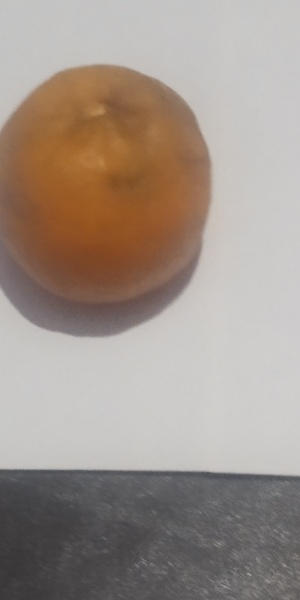BAD: (2, 66, 214, 304)
